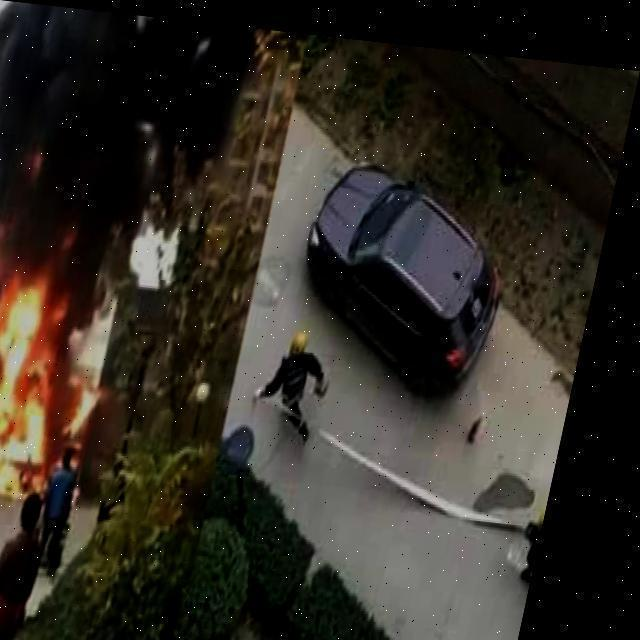Fire: (0, 220, 112, 493)
